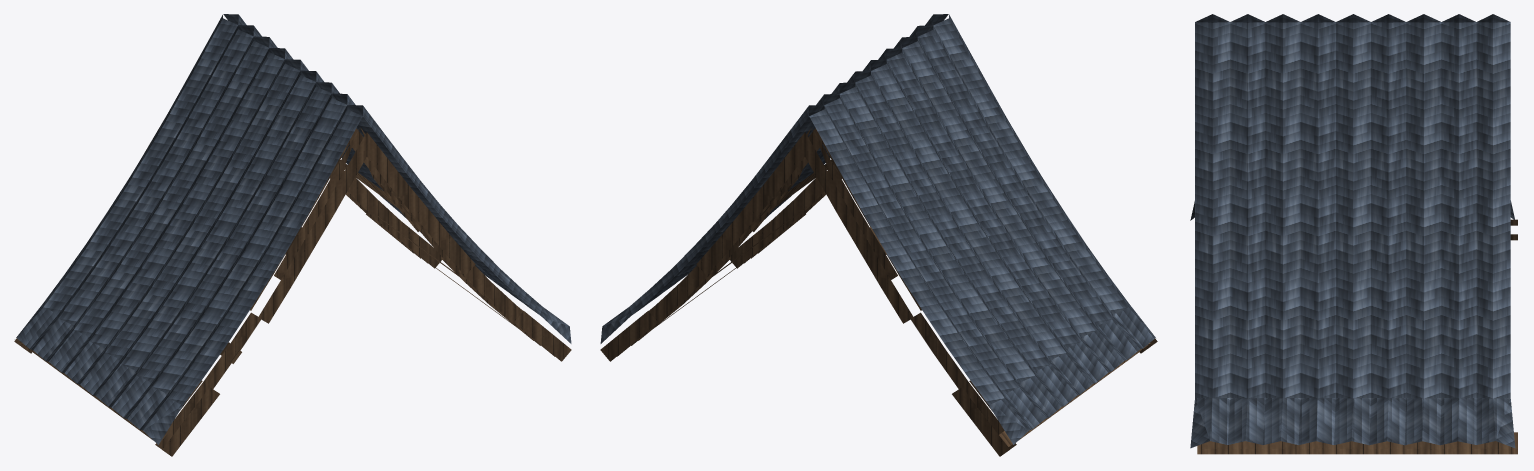
File: Roof_Slate_6x4_LOD1.gltf
3 views of the same model, side by side, from view 1: azimuth 30°, elevation 25°; view 2: azimuth 150°, elevation 25°; view 3: azimuth 270°, elevation 25° (orthographic). The views are drawn at different scales.
Parts seen in each view (by area): view 1: Roof_Slate_6x4_LOD1; view 2: Roof_Slate_6x4_LOD1; view 3: Roof_Slate_6x4_LOD1.
Part boxes in pixels (x1,y1,x2,y2): Roof_Slate_6x4_LOD1: (14, 14, 571, 456); Roof_Slate_6x4_LOD1: (600, 14, 1157, 456); Roof_Slate_6x4_LOD1: (1190, 14, 1517, 454).
Size of the model in its own units: 8.25 by 5.42 by 4.95.
2 materials, 2 textured.
